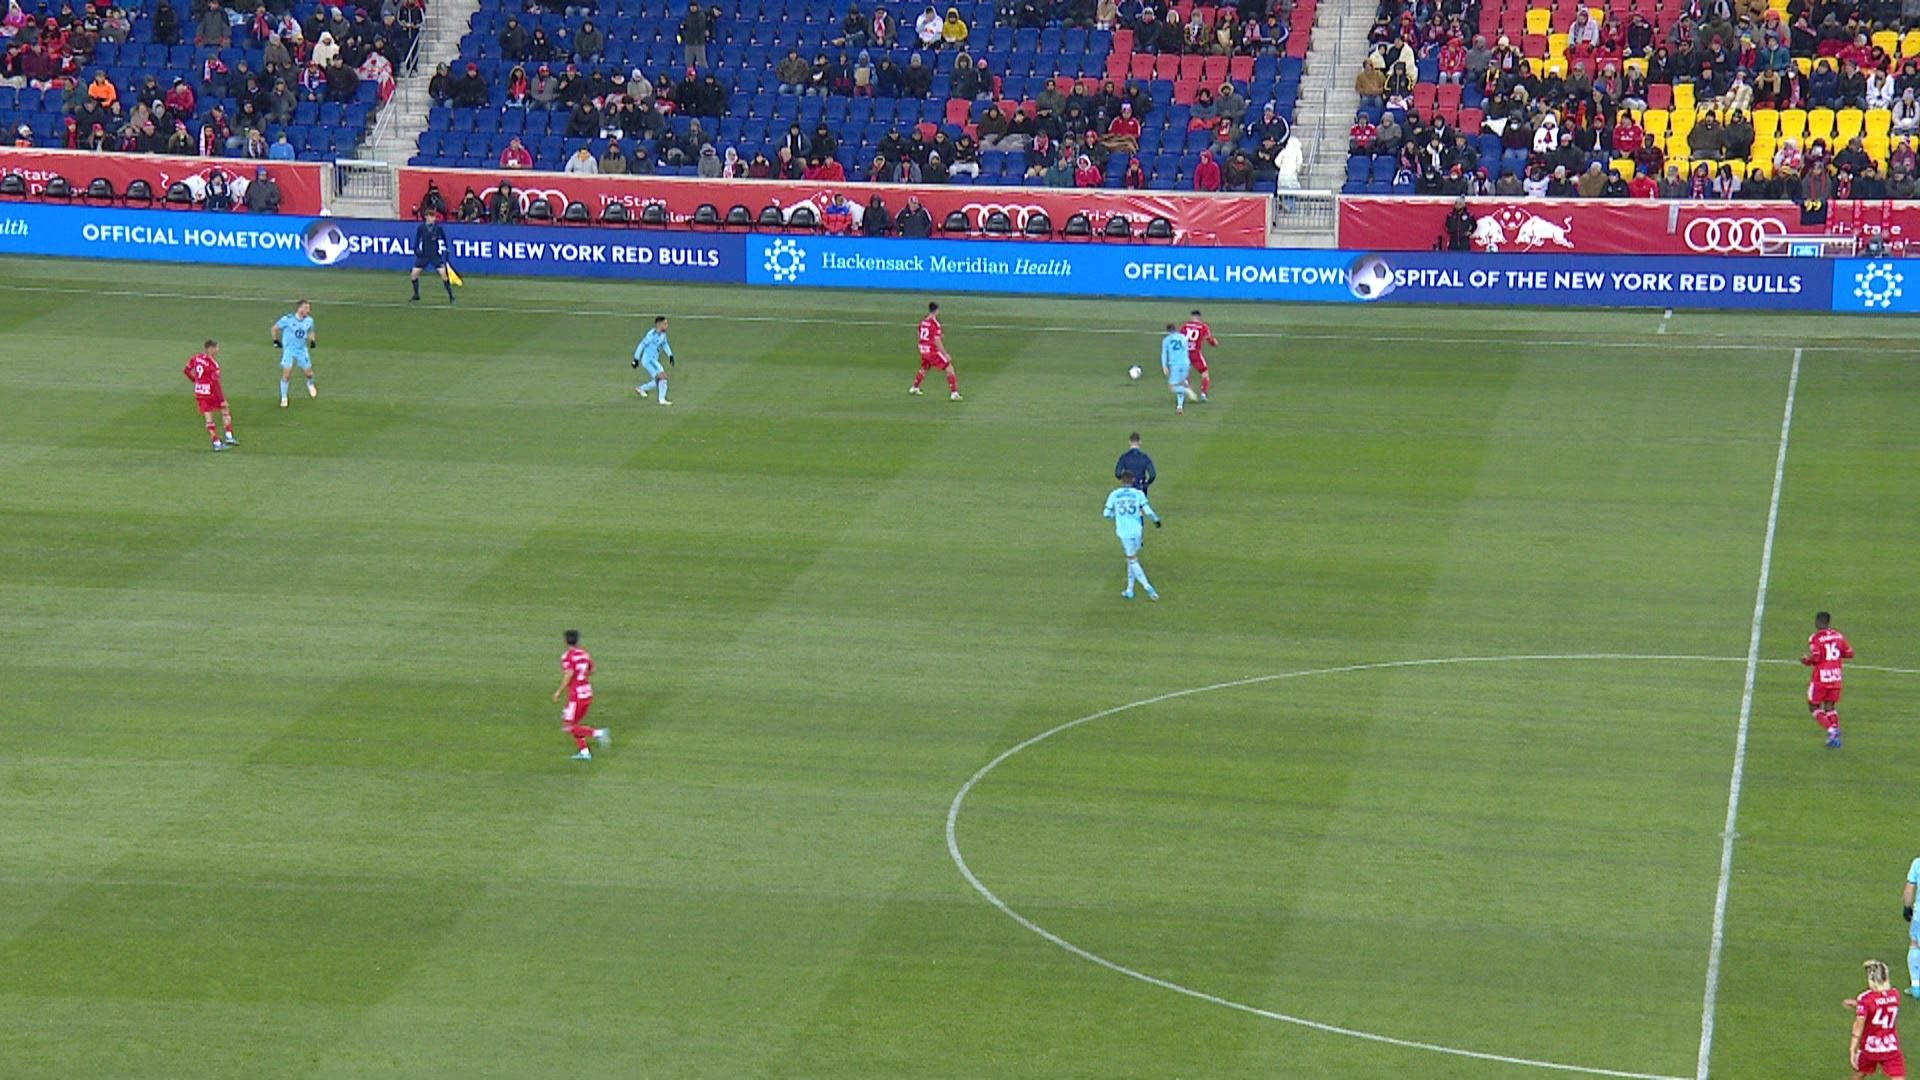football: (1127, 364, 1142, 381)
